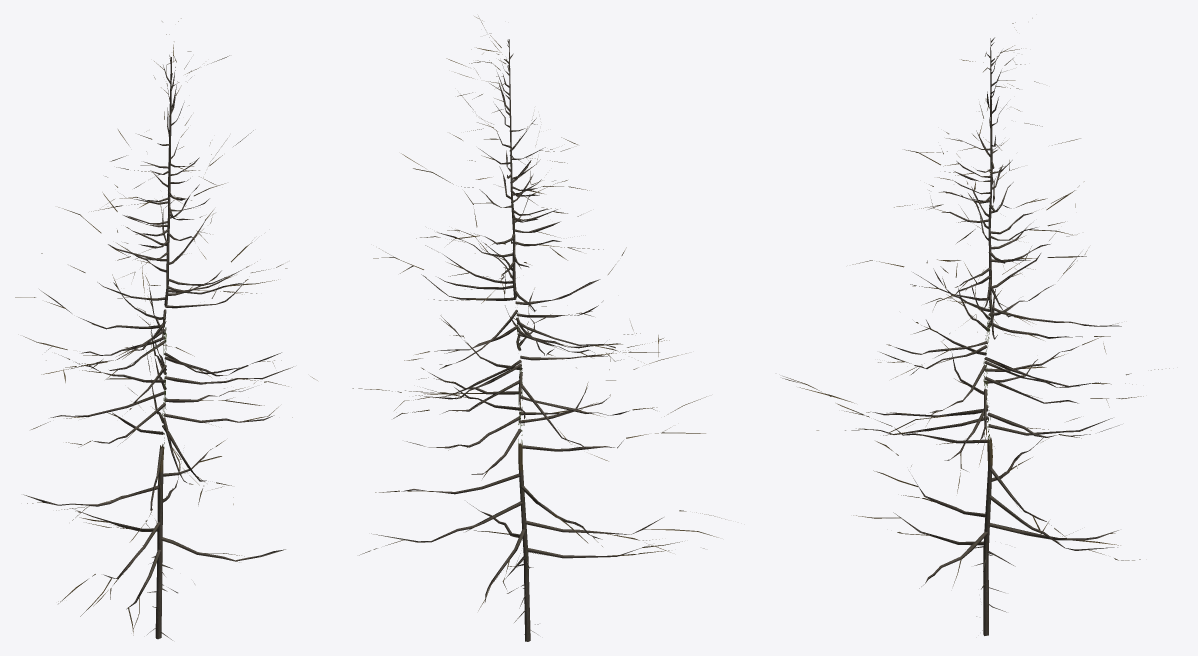
Rendered from fir-sapling-medium.glb.
3 renders of one model, left to right at view 1: azimuth 30°, elevation 25°; view 2: azimuth 150°, elevation 25°; view 3: azimuth 270°, elevation 25°, orthographic. The views are drawn at different scales.
Parts seen in each view (by area): view 1: fir_sapling_medium_a_LOD0; view 2: fir_sapling_medium_a_LOD0; view 3: fir_sapling_medium_a_LOD0.
Part boxes in pixels (x1,y1,x2,y2): fir_sapling_medium_a_LOD0: (15, 18, 317, 640); fir_sapling_medium_a_LOD0: (352, 16, 725, 641); fir_sapling_medium_a_LOD0: (782, 18, 1169, 635).
Size of the model in its own units: 4.26 by 8.43 by 4.93.
1 material, 1 textured.
